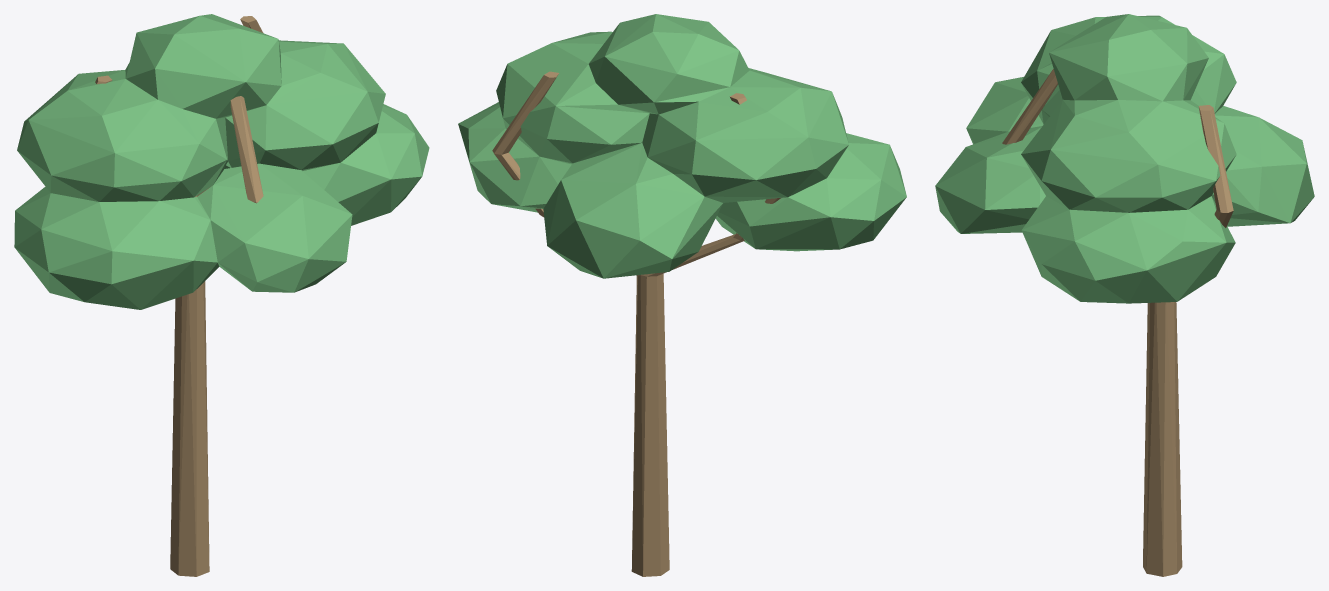
File: tree21.fbx
3 views of the same model, side by side, from view 1: azimuth 30°, elevation 25°; view 2: azimuth 150°, elevation 25°; view 3: azimuth 270°, elevation 25° (orthographic). The views are drawn at different scales.
Parts seen in each view (by area): view 1: treetype21; view 2: treetype21; view 3: treetype21.
Boxes of the visible parts, <box> form: treetype21: <box>14,14,429,576</box>; treetype21: <box>458,14,906,576</box>; treetype21: <box>935,14,1314,576</box>.
Size of the model in its own units: 167 by 214 by 137.
